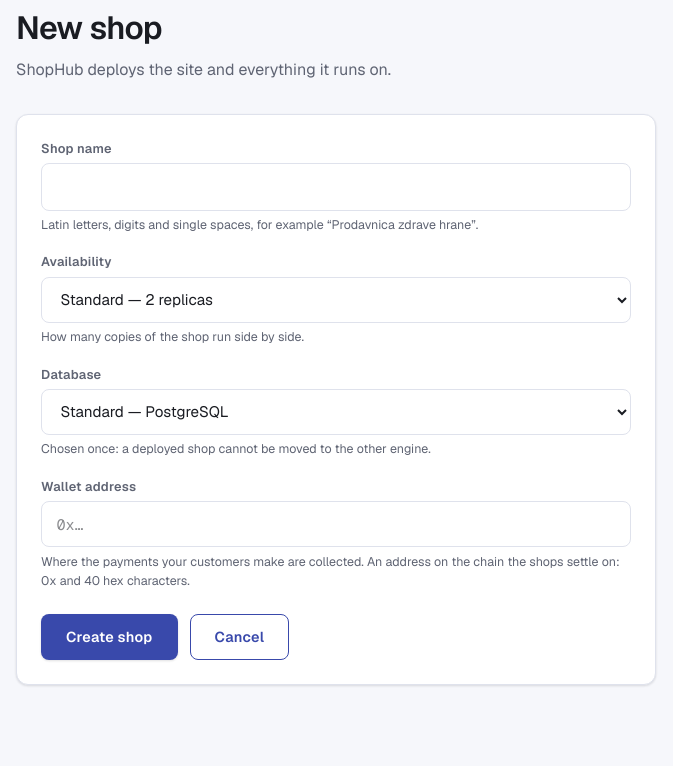
NewShopPage › shows what the backend refused and stays on the form
Type "Prodavnica odece" into the field labelled "Shop name" at x=336, y=187, box [41,163,631,211]
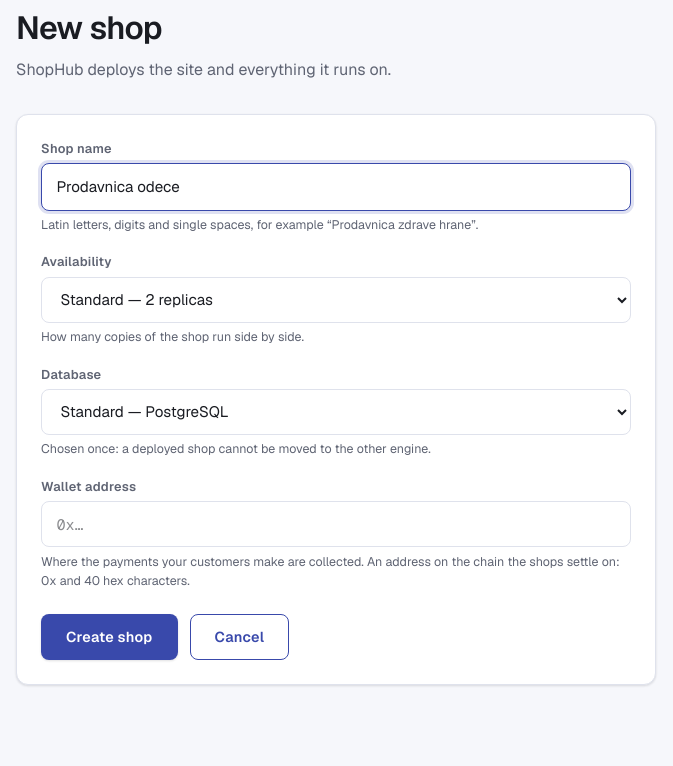
Type "0x742d35Cc6634C0532925a3b844Bc9e7595f42D0B" into the field labelled "Wallet address" at x=336, y=524, box [41,501,631,547]
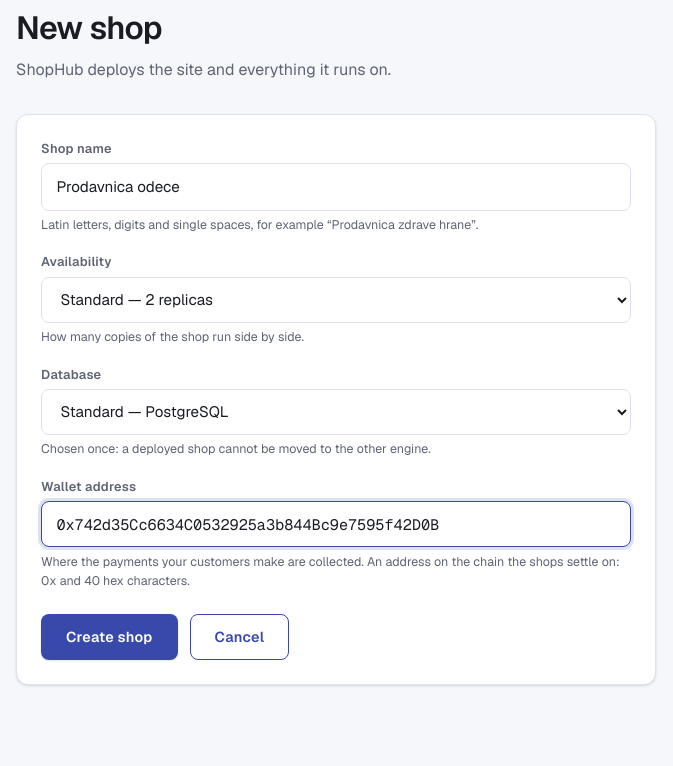
Click the button "Create shop" at x=109, y=637, box [41,614,178,660]
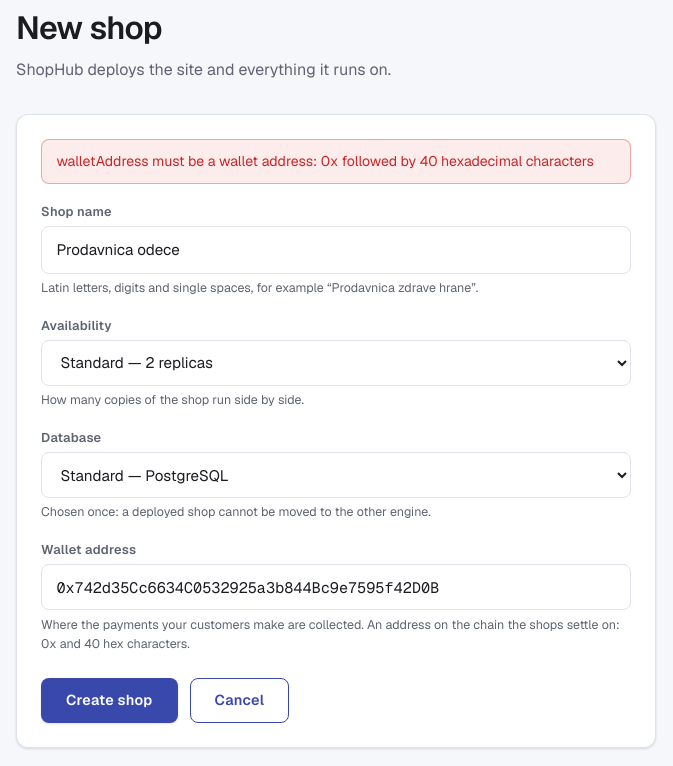
Check: the message shows "walletAddress must be a wallet address", box [56,152,594,170]
